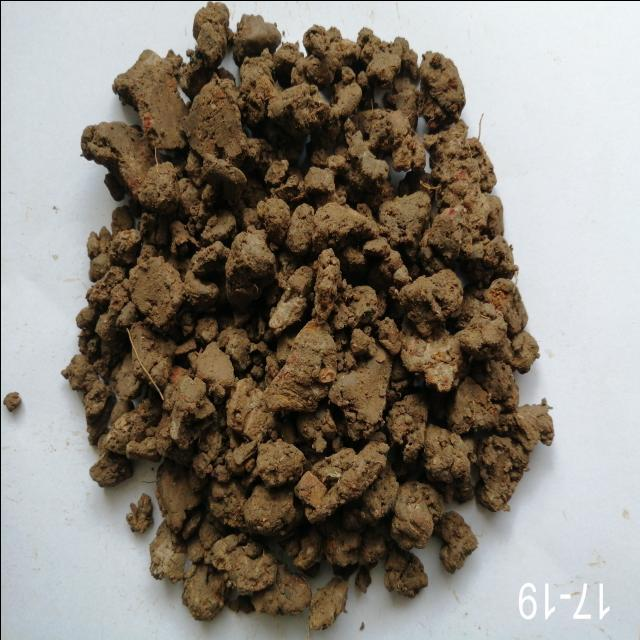soil: (150, 102, 454, 536)
